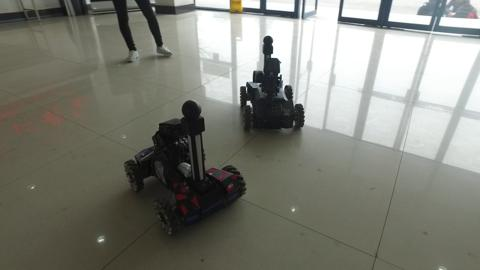chariot: (123, 98, 248, 243), (238, 35, 312, 135)
